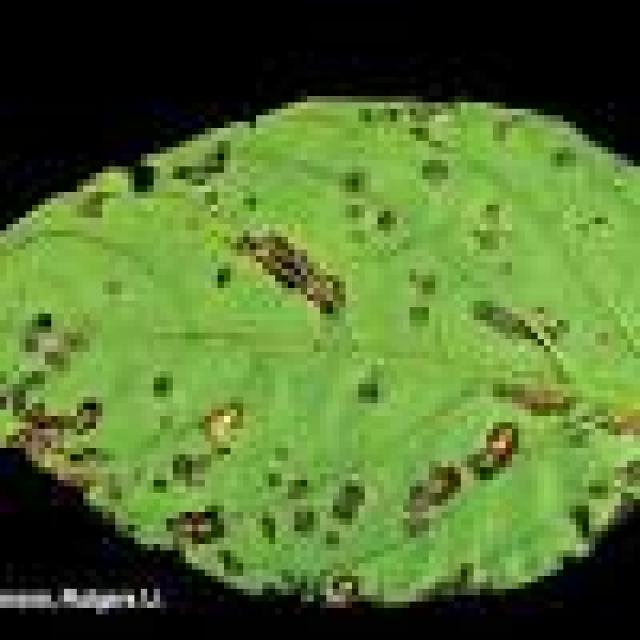bercak_daun: (0, 86, 638, 606)
